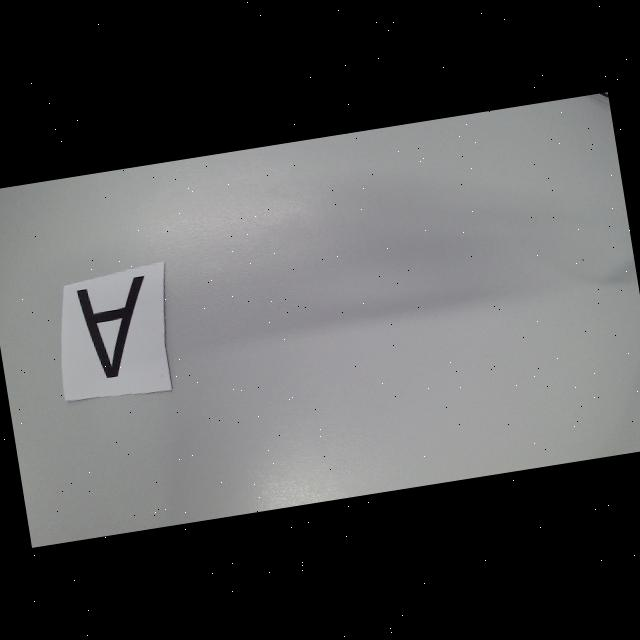FAKE: (76, 274, 159, 380)
